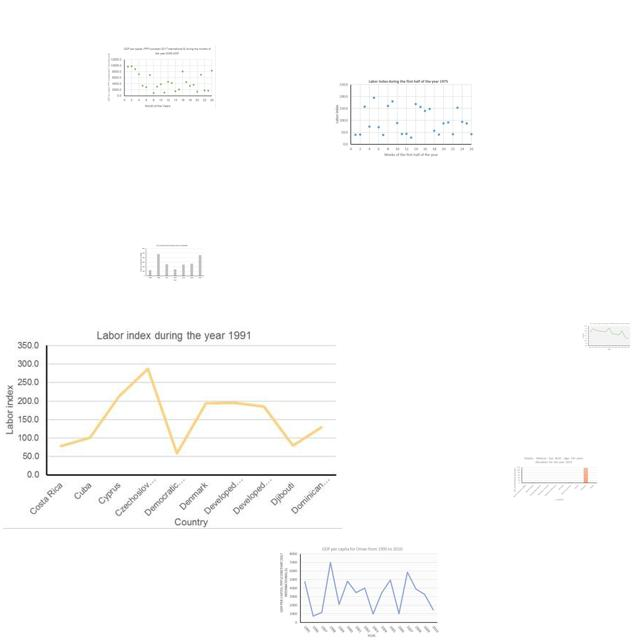Graph: (3, 327, 342, 529), (277, 545, 440, 639), (334, 78, 474, 158), (106, 45, 216, 109), (512, 456, 599, 502), (139, 244, 205, 282), (581, 322, 631, 351)
